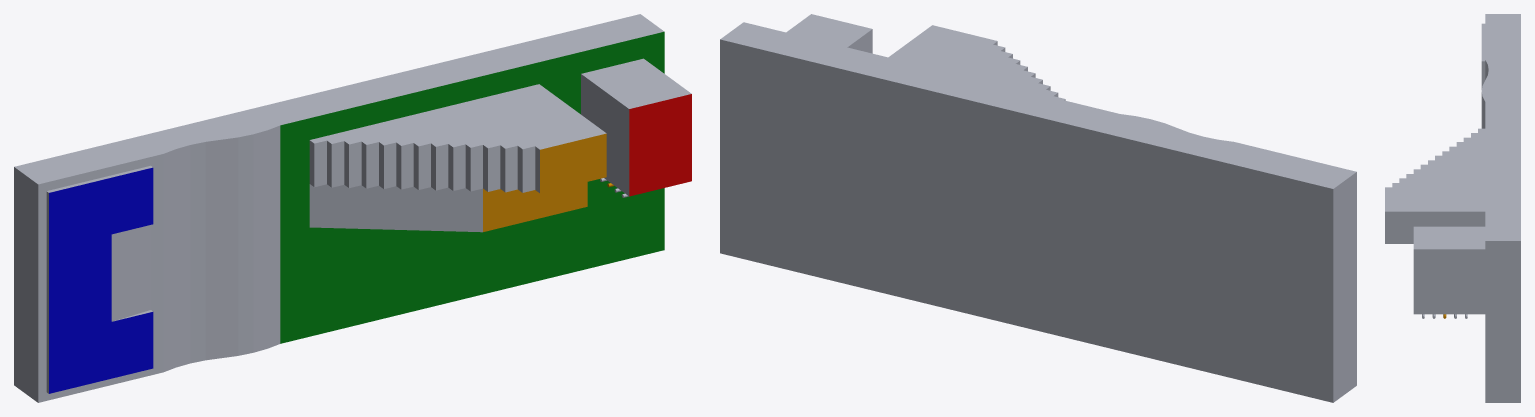
The model's file is sample_field.obj.
3 renders of one model, left to right at view 1: azimuth 30°, elevation 25°; view 2: azimuth 150°, elevation 25°; view 3: azimuth 270°, elevation 25°, orthographic. The views are drawn at different scales.
Visible parts, largest first — view 1: Sample_Field; view 2: Sample_Field; view 3: Sample_Field.
Part boxes in pixels (x1,y1,x2,y2): Sample_Field: (14,14,691,402); Sample_Field: (720,14,1356,402); Sample_Field: (1385,14,1520,402).
Bounding box in the file's own units: 15 × 5 × 3.8.
